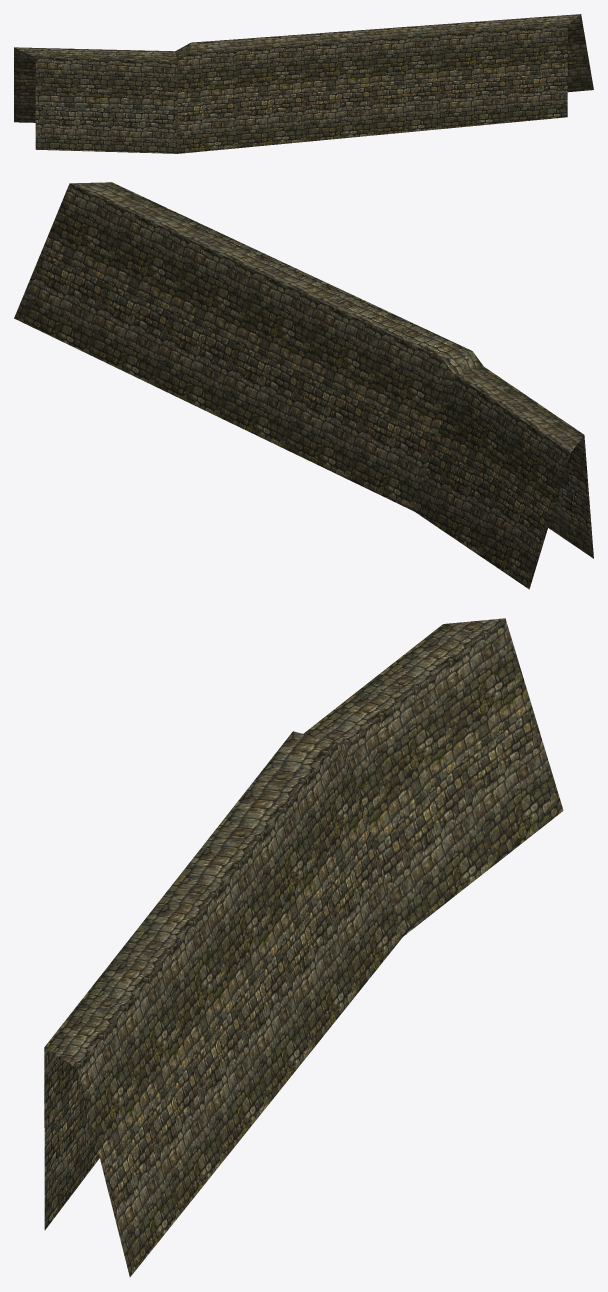
3 views of the same model, one above another, from view 1: azimuth 30°, elevation 25°; view 2: azimuth 150°, elevation 25°; view 3: azimuth 270°, elevation 25° (orthographic). The views are drawn at different scales.
Parts seen in each view (by area): view 1: TN2_W15-col; view 2: TN2_W15-col; view 3: TN2_W15-col.
Part boxes in pixels (x1,y1,x2,y2): TN2_W15-col: (14, 14, 593, 153); TN2_W15-col: (14, 182, 593, 589); TN2_W15-col: (44, 618, 563, 1276).
Bounding box in the file's own units: 36.4 × 6.89 × 16.83.
Materials: 2 (2 with a texture image).
